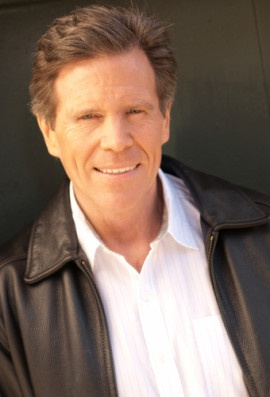bad: (55, 92, 163, 199)
